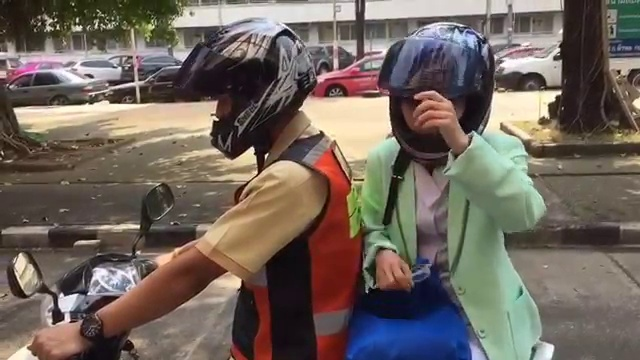helmet: (175, 13, 337, 160), (376, 16, 505, 169)
